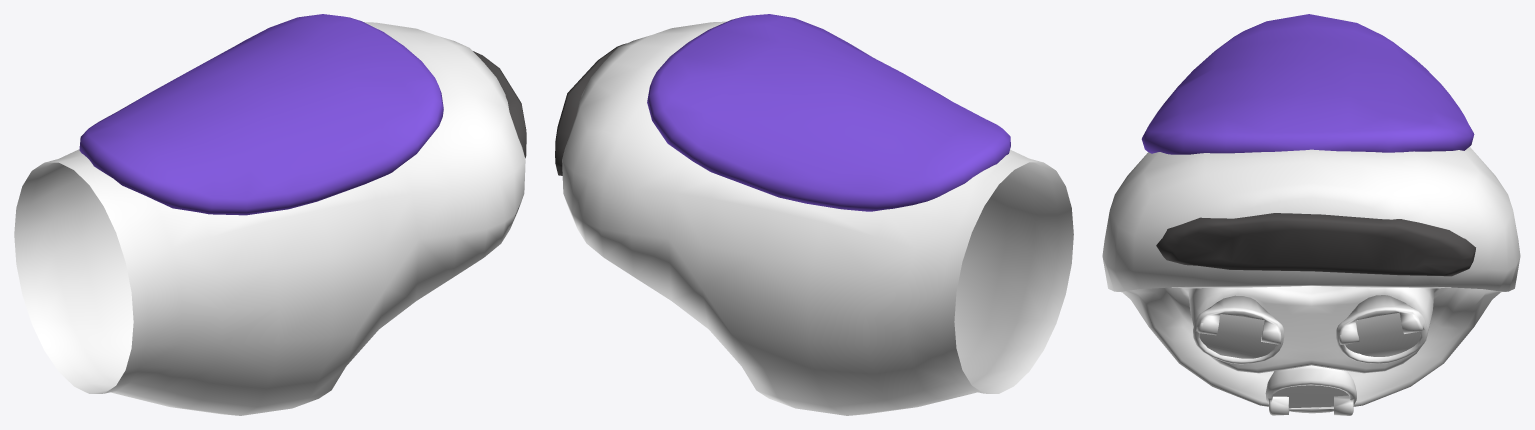
Rendered from LWristYaw.dae.
3 views of the same model, side by side, from view 1: azimuth 30°, elevation 25°; view 2: azimuth 150°, elevation 25°; view 3: azimuth 270°, elevation 25° (orthographic). The views are drawn at different scales.
Parts seen in each view (by area): view 1: RWristYaw; view 2: RWristYaw; view 3: RWristYaw.
Boxes of the visible parts, bbox=[...] form: RWristYaw: bbox=[14, 14, 526, 415]; RWristYaw: bbox=[555, 14, 1073, 415]; RWristYaw: bbox=[1102, 14, 1520, 415].
Size of the model in its own units: 0.8481 by 0.6829 by 0.63.
1 material, 1 textured.
